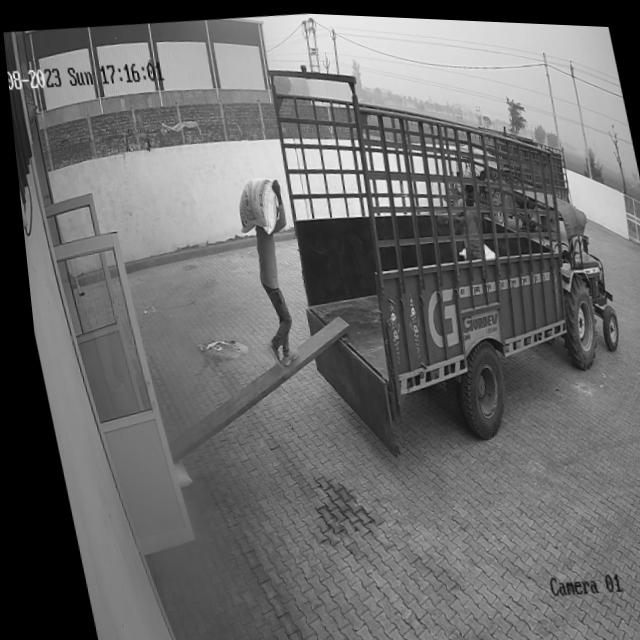sack: (227, 176, 278, 236)
